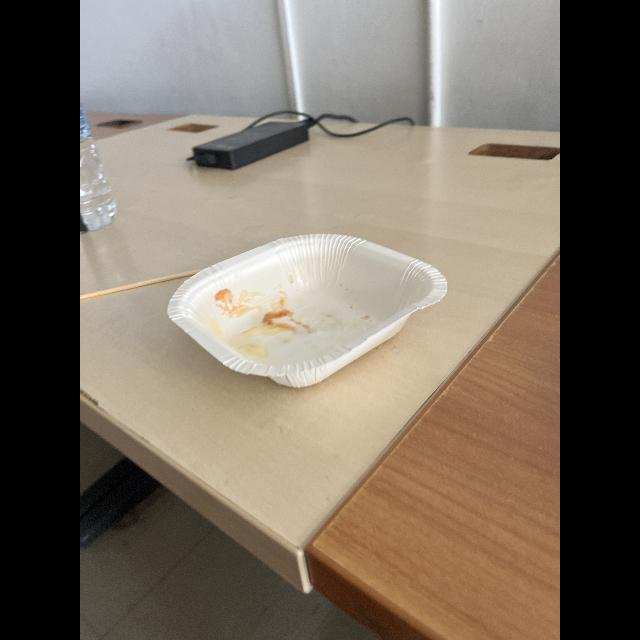stick: (164, 228, 450, 392), (80, 272, 194, 304)
